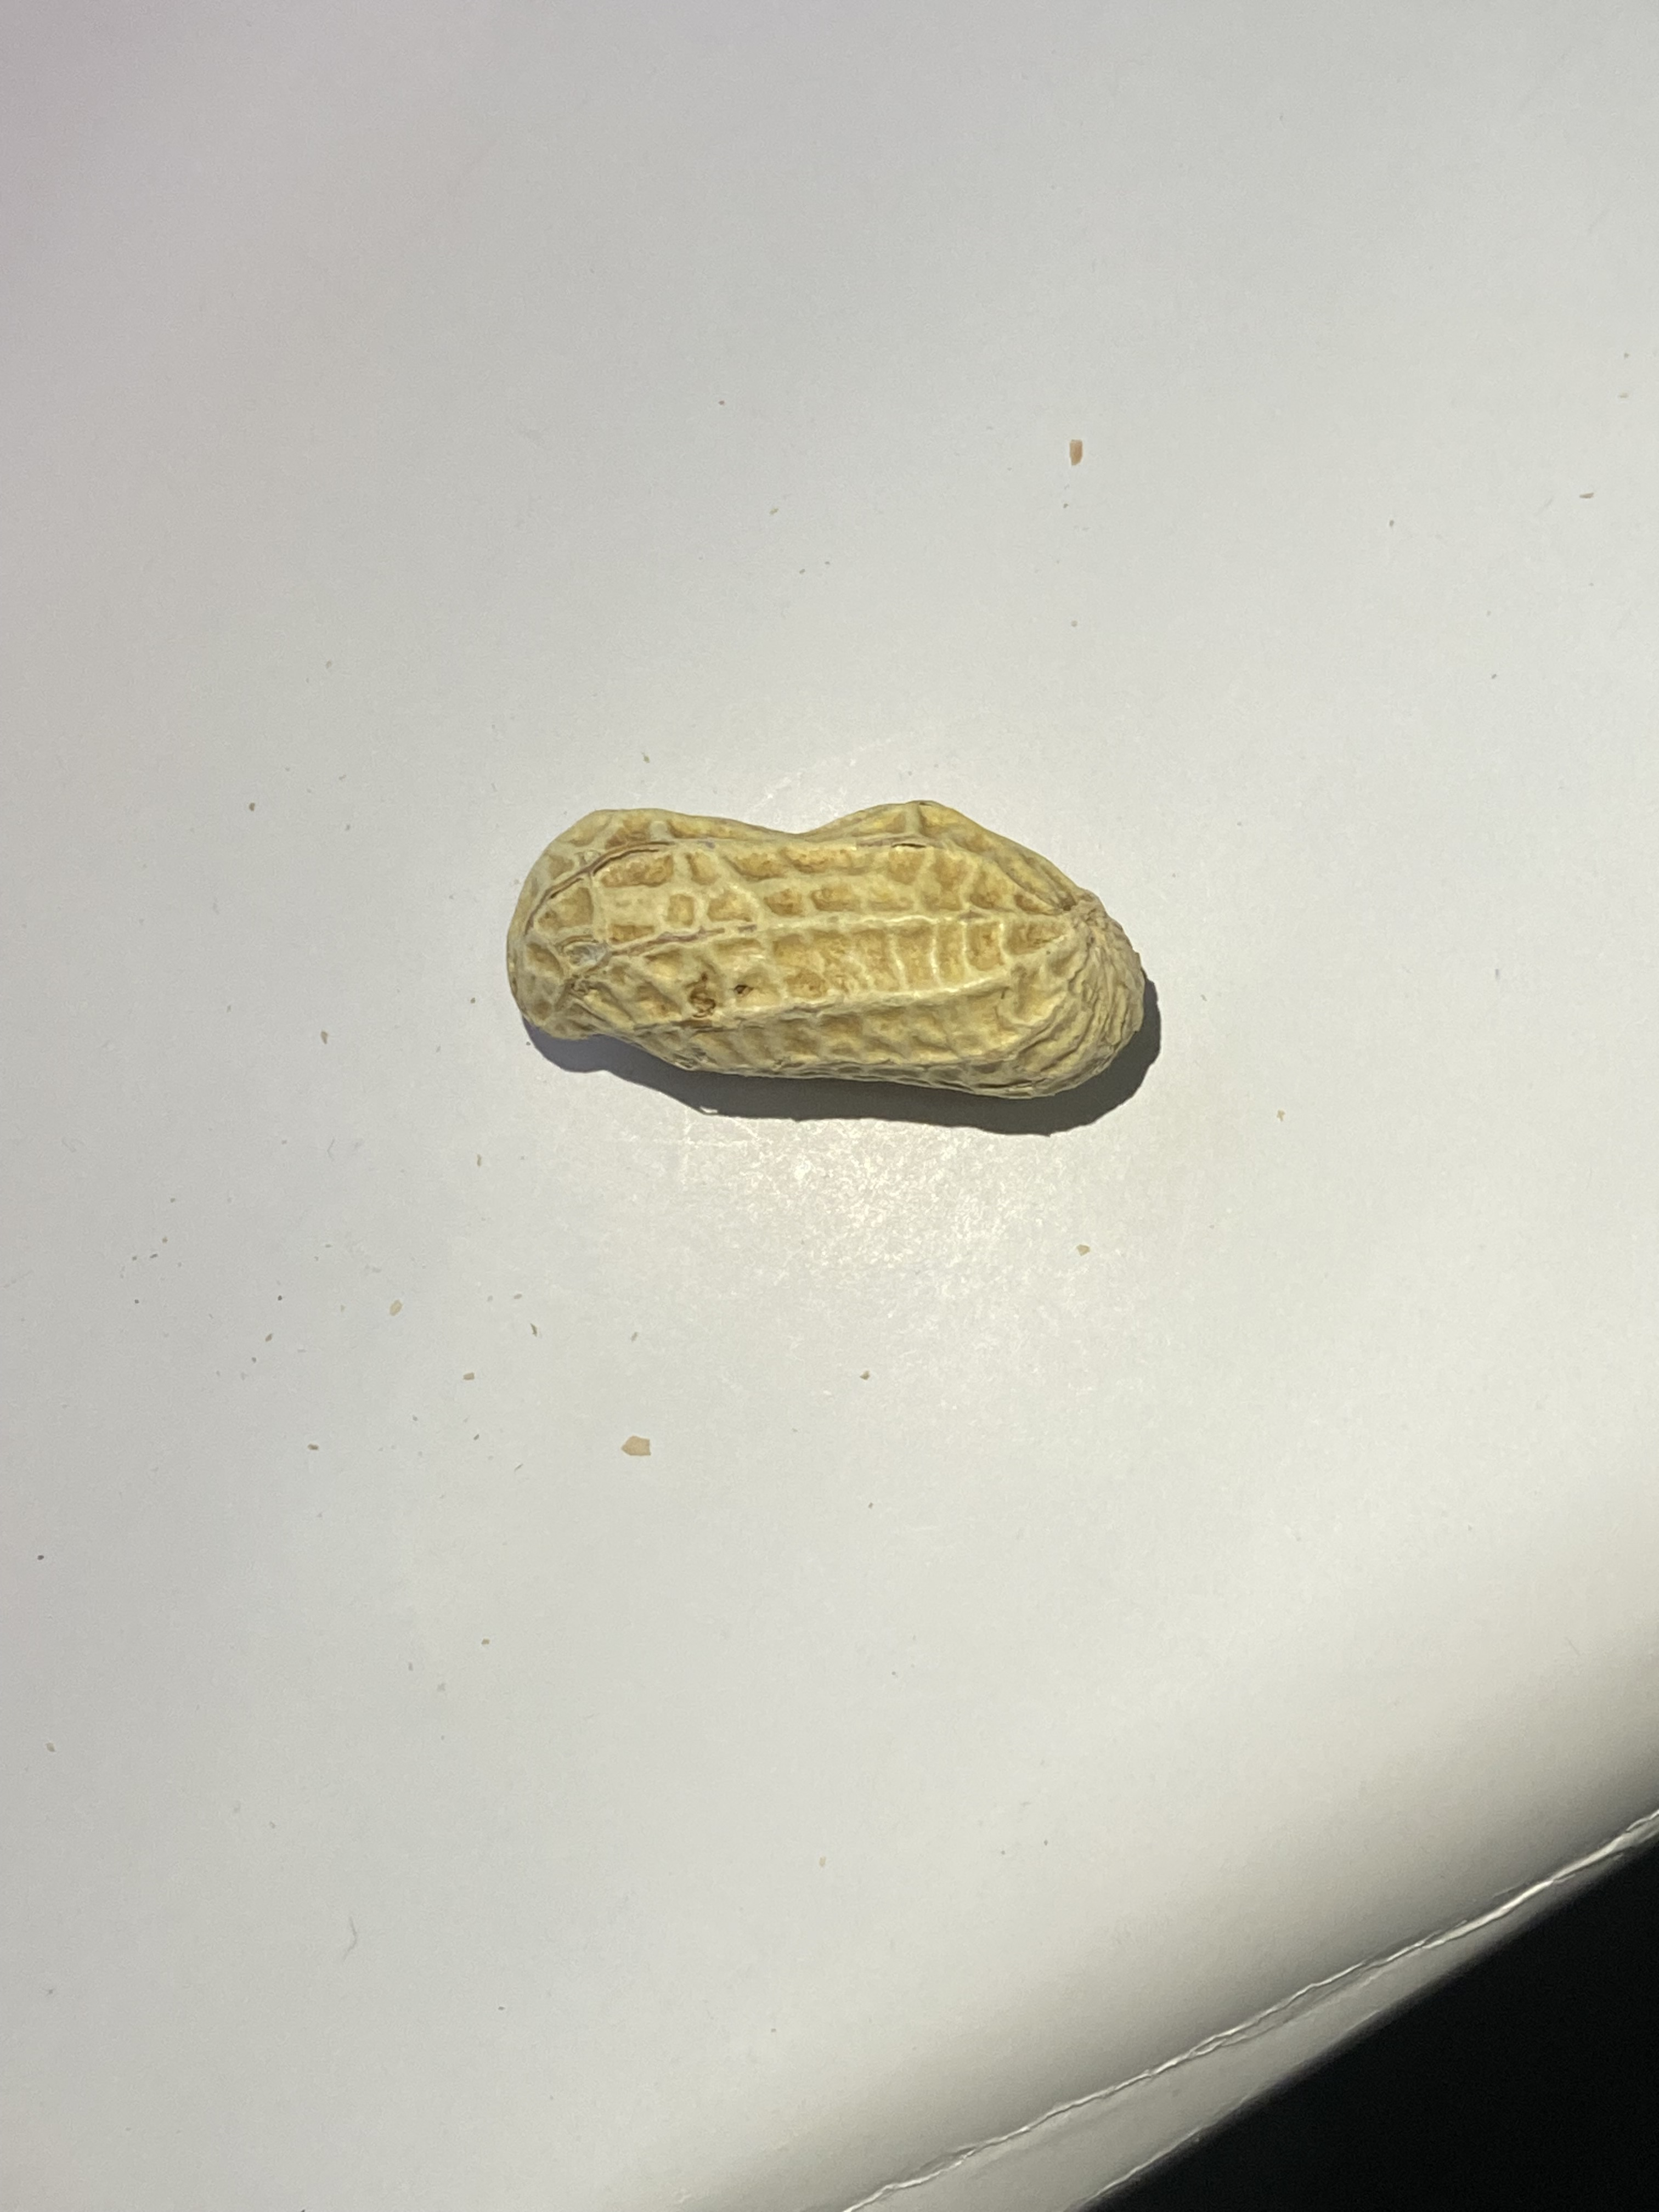kacang2: (477, 784, 1190, 1143)
